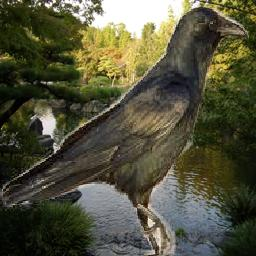Crow: (0, 2, 251, 256)
